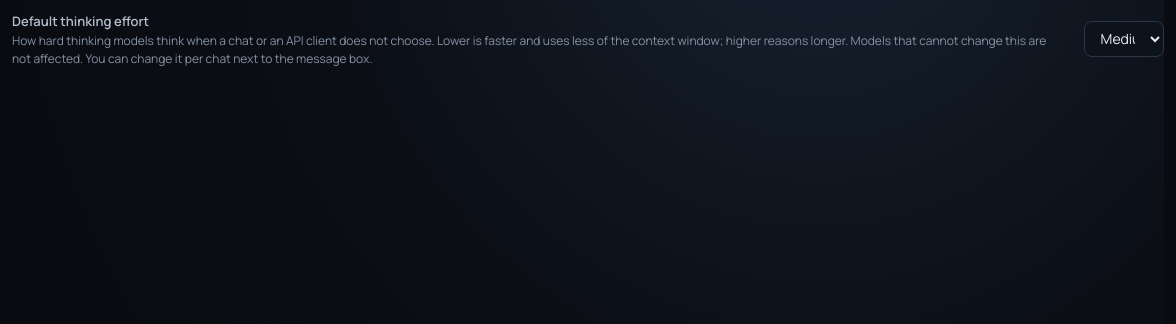
Scenario: ThinkingDefault › shows the refusal when the setting cannot be saved
Step 1. Select "Low" in the dropdown → [1124, 39], box x1=1084 y1=21 x2=1164 y2=57
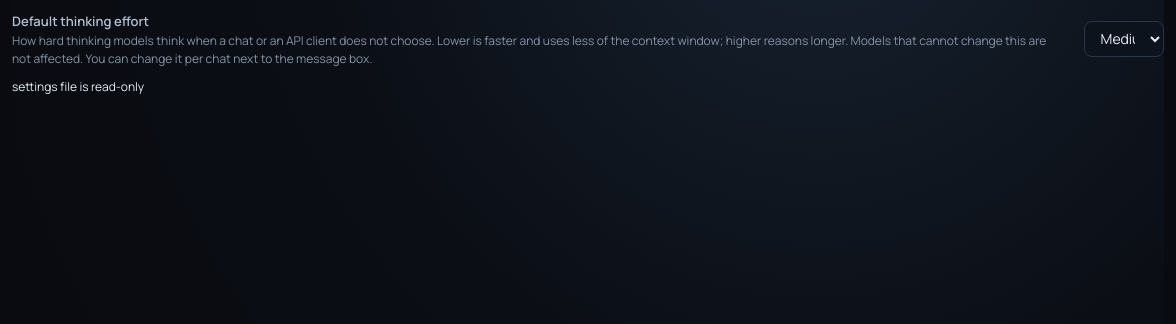
Result: the text "settings file is read-only" is shown at x1=12 y1=78 x2=144 y2=94
